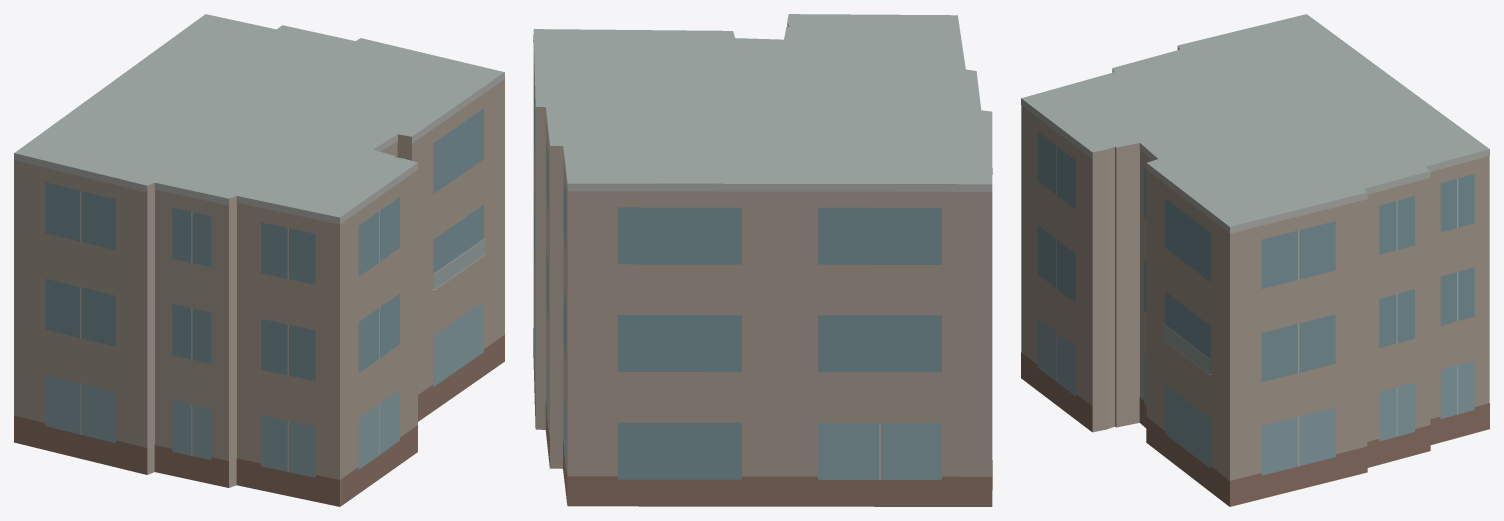
Rendered from survey-upis-33045291.glb.
3 renders of one model, left to right at view 1: azimuth 30°, elevation 25°; view 2: azimuth 150°, elevation 25°; view 3: azimuth 270°, elevation 25°, orthographic. The views are drawn at different scales.
Parts seen in each view (by area): view 1: survey-upis-33045291.tmp; view 2: survey-upis-33045291.tmp; view 3: survey-upis-33045291.tmp.
Boxes of the visible parts, x1,y1,x2,y2 form: survey-upis-33045291.tmp: (14,14,504,506); survey-upis-33045291.tmp: (533,14,992,506); survey-upis-33045291.tmp: (1021,14,1489,506).
Size of the model in its own units: 16.65 by 10.2 by 15.49.
